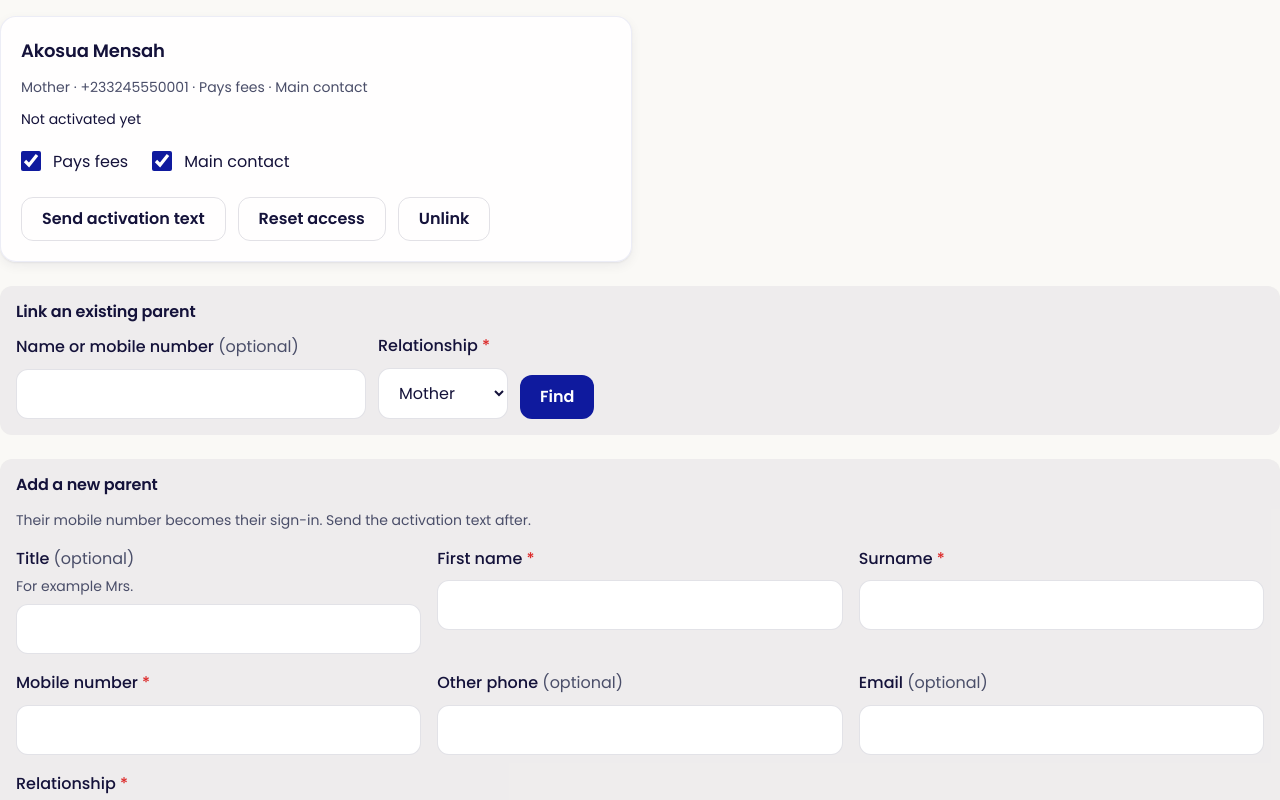
ParentsTab › lists parents and sends the activation text
Expected: the text "Mother · +233245550001 · Pays fees · Main contact" is shown, [21,77,368,97]
Expected: the text "Not activated yet" is shown, [21,109,141,129]
Click the button "Send activation text" at (123, 219), box [21,197,226,241]
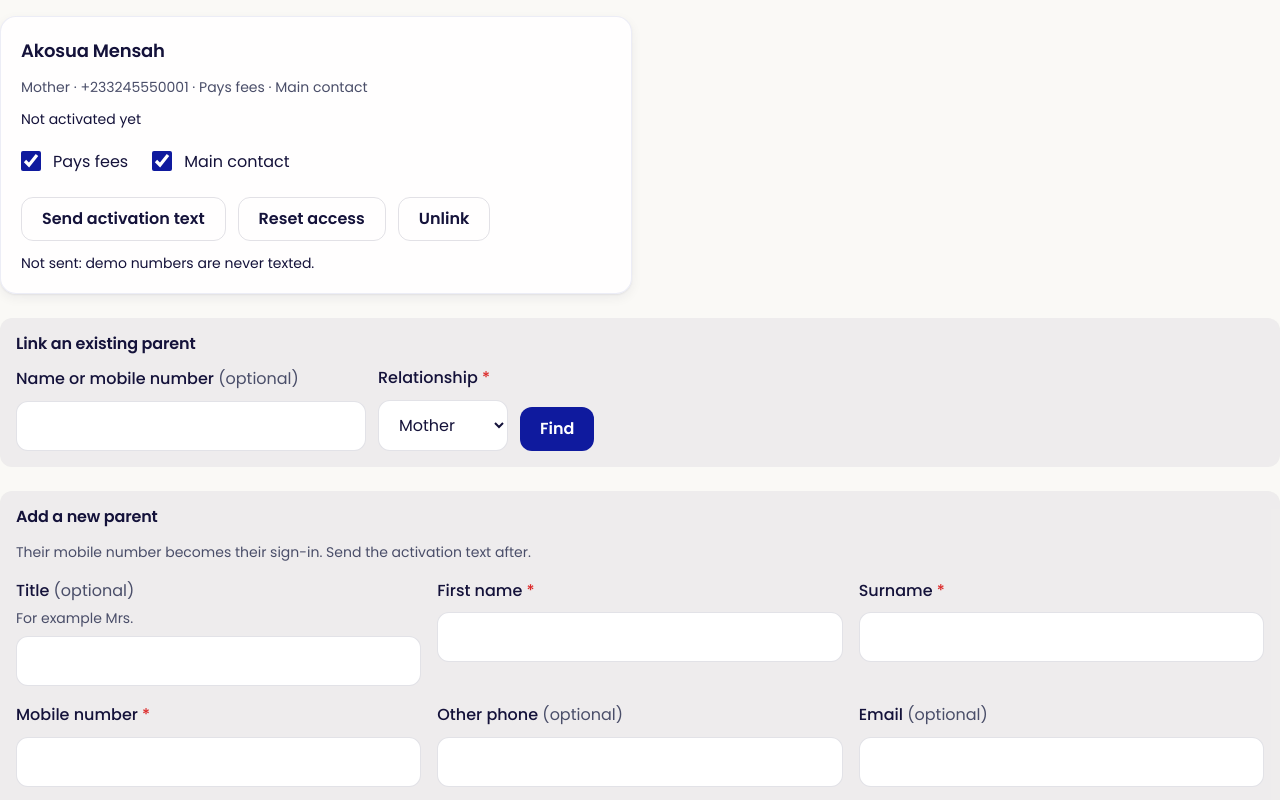
Expected: the message reads "Not sent: demo numbers are never texted.", [21,253,314,273]
